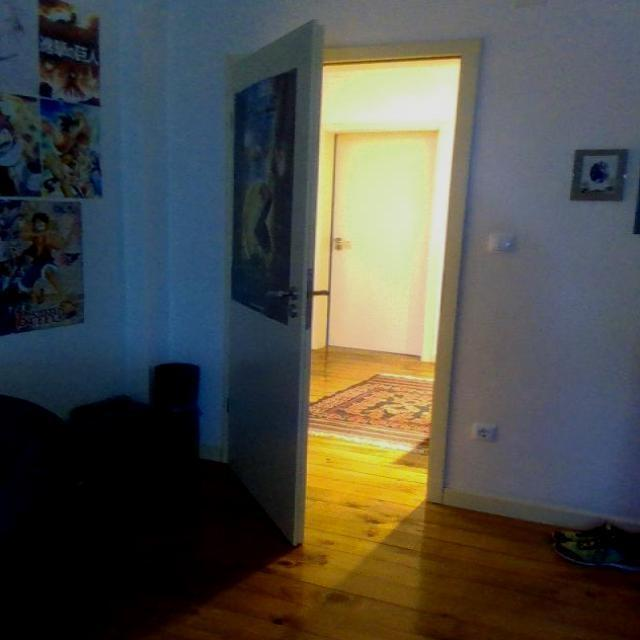door: (211, 9, 339, 546)
